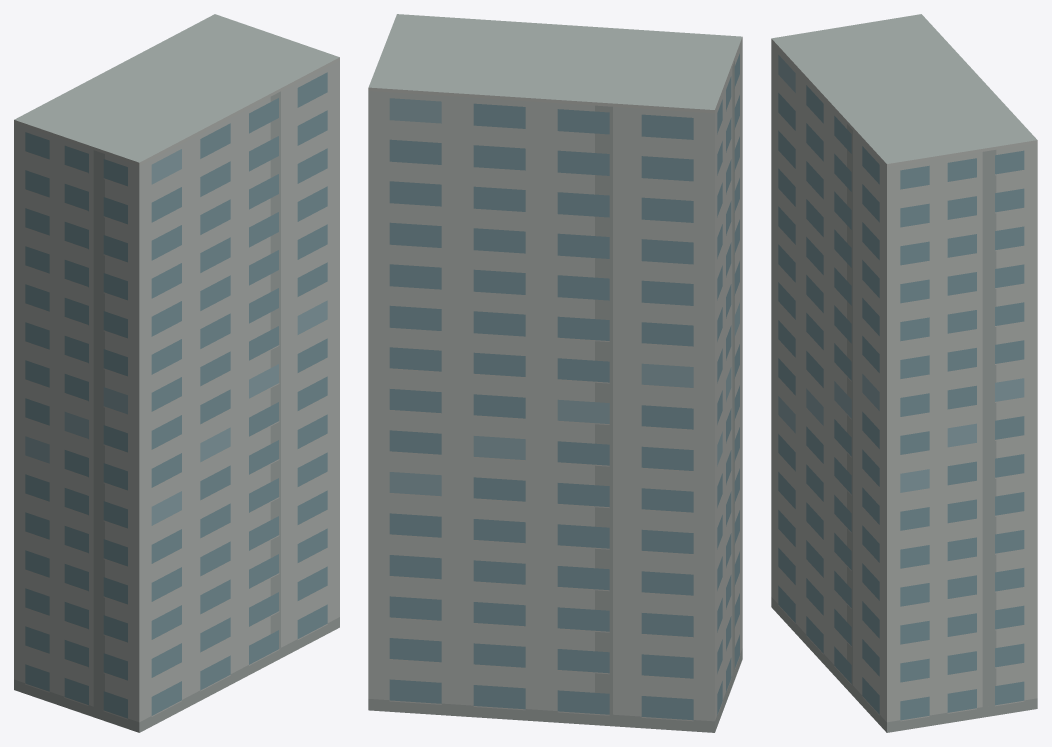
The model's file is survey-upis-32513893.glb.
The picture shows the model from 3 angles, left to right: view 1: azimuth 30°, elevation 25°; view 2: azimuth 150°, elevation 25°; view 3: azimuth 270°, elevation 25°; orthographic projection. The views are drawn at different scales.
Visible parts, largest first — view 1: survey-upis-32513893.tmp; view 2: survey-upis-32513893.tmp; view 3: survey-upis-32513893.tmp.
Part boxes in pixels (bbox=[...]): survey-upis-32513893.tmp: bbox=[14, 14, 339, 732]; survey-upis-32513893.tmp: bbox=[368, 14, 742, 732]; survey-upis-32513893.tmp: bbox=[771, 14, 1037, 732].
Bounding box in the file's own units: 25.91 × 45.75 × 19.42.
